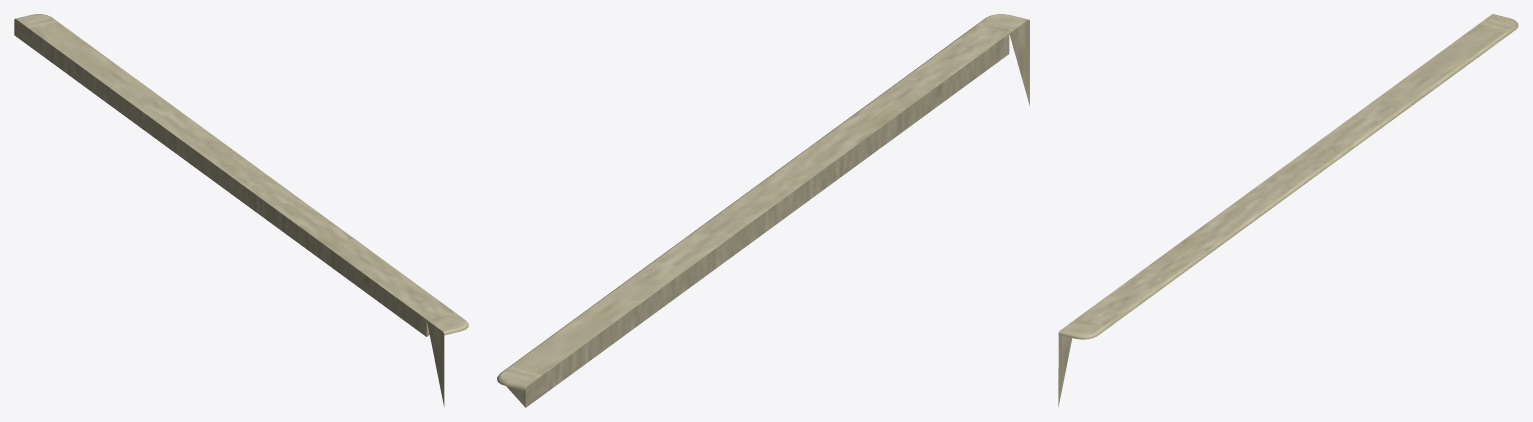
The picture shows the model from 3 angles, left to right: view 1: azimuth 30°, elevation 25°; view 2: azimuth 150°, elevation 25°; view 3: azimuth 330°, elevation 25°; orthographic projection. The views are drawn at different scales.
Bounding box in the file's own units: 0.0289 × 0.0682 × 0.7058.
